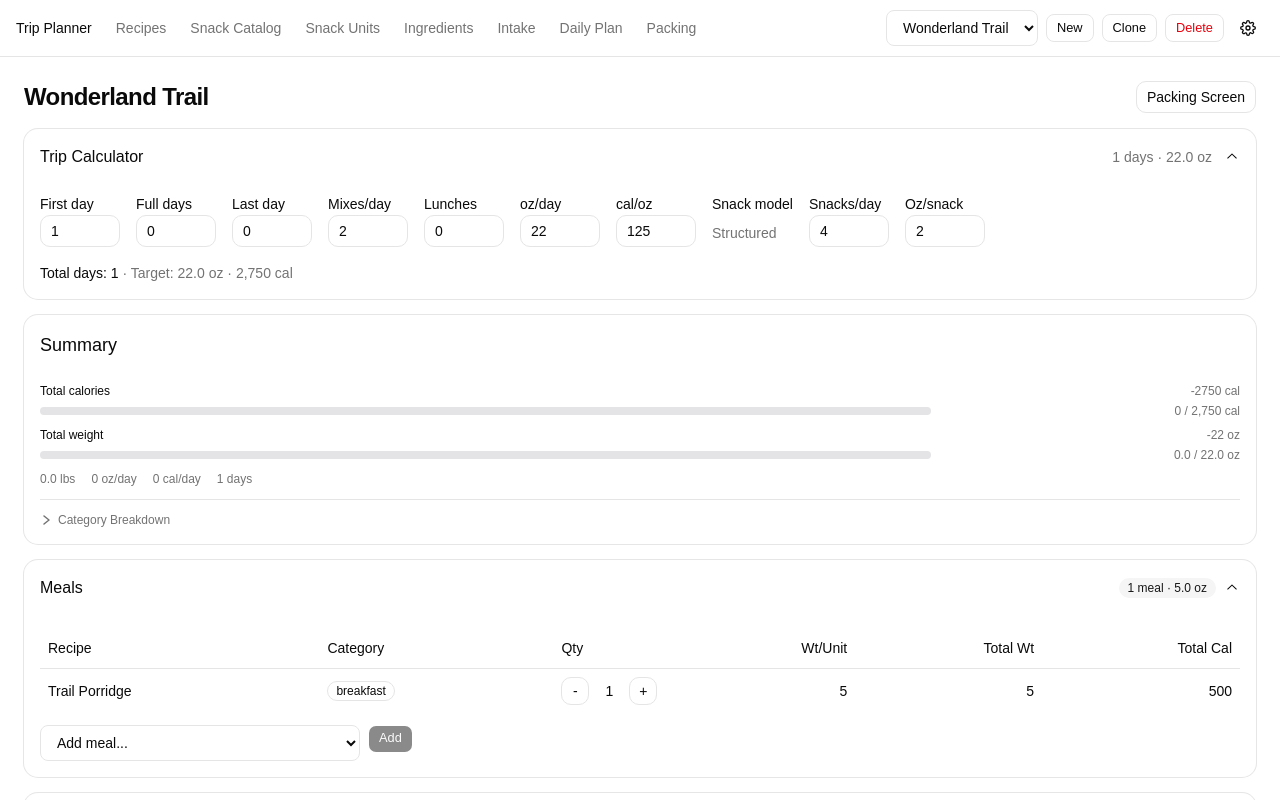
Scenario: MealSelection › a failed quantity change surfaces a visible error and leaves the app usable
The width and height of the screenshot is (1280, 800).
Click the button named "Increase Trail Porridge quantity". click: (643, 690)
box: [629,676,657,704]
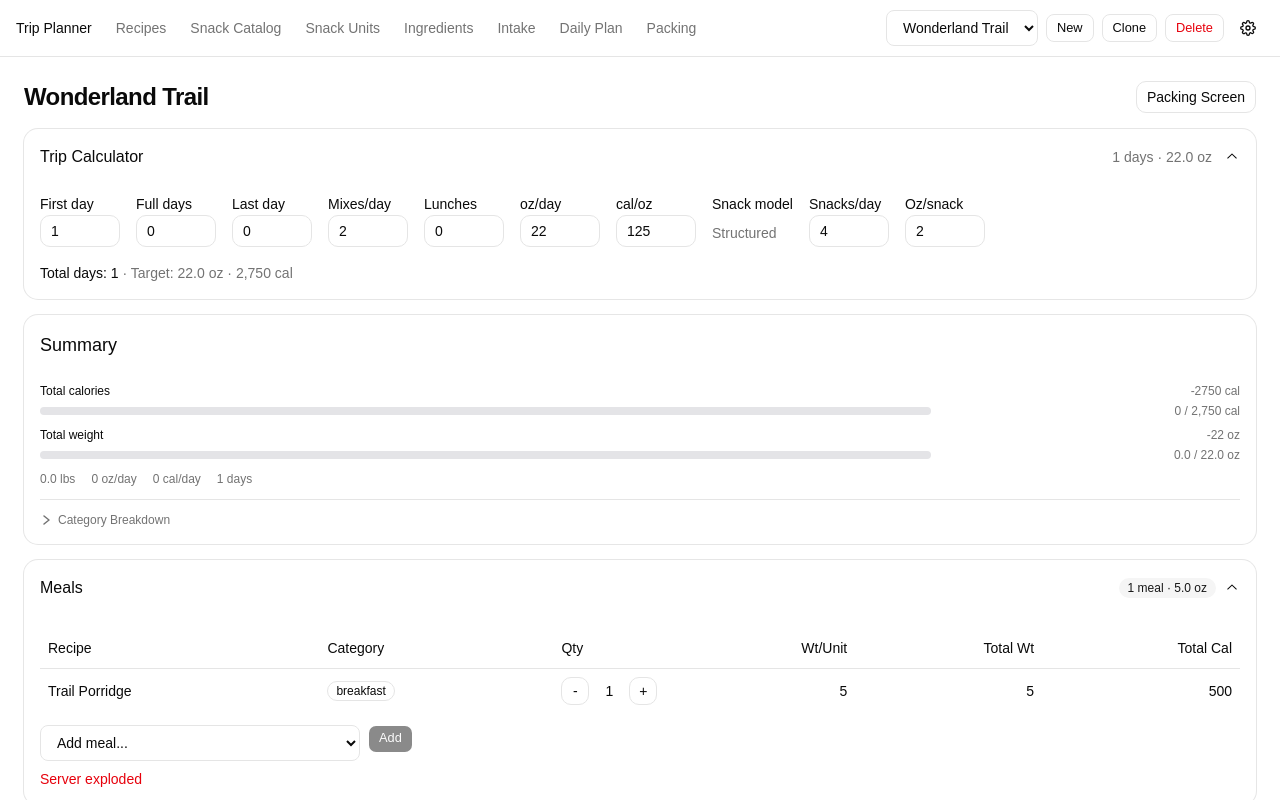
expect the text "Server exploded" is shown: met, box [40,770,142,786]
